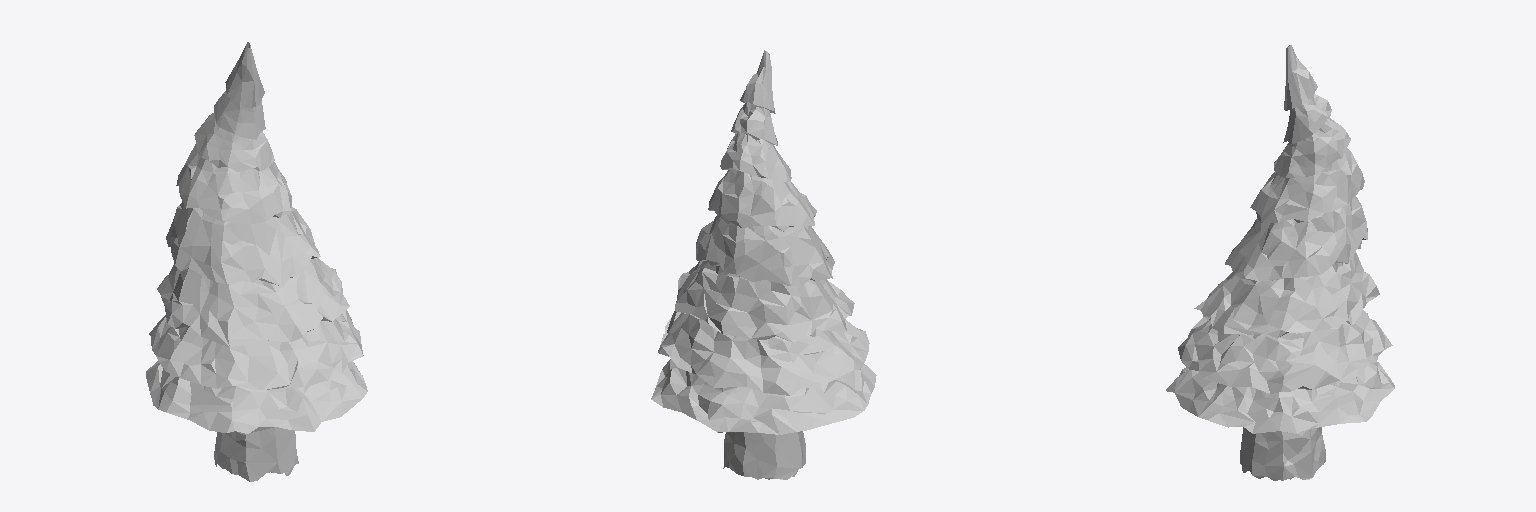
File: pine.obj
The picture shows the model from 3 angles: view 1: azimuth 30°, elevation 25°; view 2: azimuth 150°, elevation 25°; view 3: azimuth 270°, elevation 25°; orthographic projection.
Parts seen in each view (by area): view 1: Tree.019_Circle.021; view 2: Tree.019_Circle.021; view 3: Tree.019_Circle.021.
Boxes of the visible parts, box(x1,y1,x2,y2) form: Tree.019_Circle.021: box(146, 42, 367, 481); Tree.019_Circle.021: box(651, 50, 876, 479); Tree.019_Circle.021: box(1166, 45, 1394, 480).
Size of the model in its own units: 2.19 by 4.53 by 2.24.